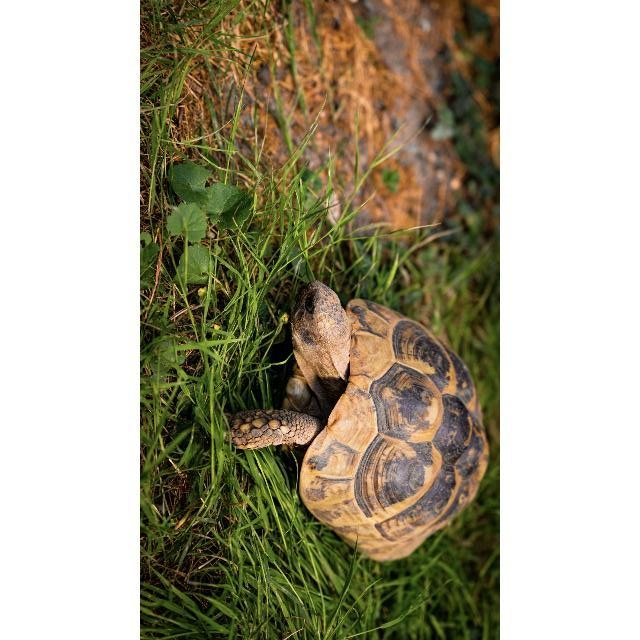turtle: (225, 280, 490, 564)
